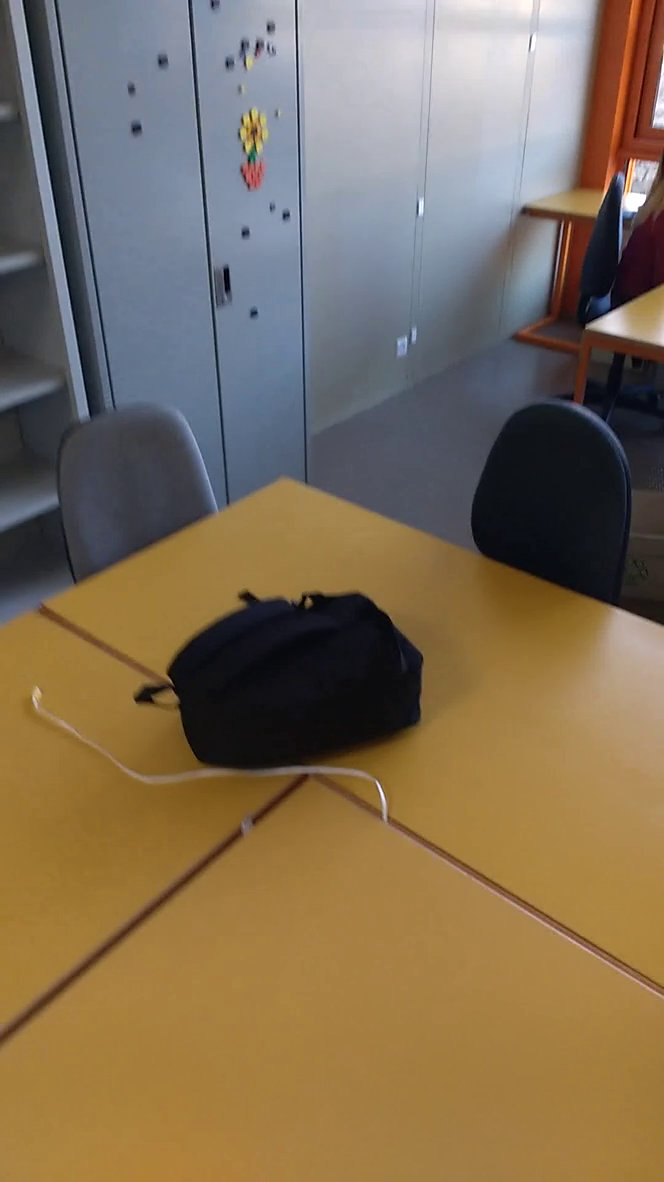bag: (125, 580, 440, 776)
chair: (466, 386, 642, 646), (43, 385, 231, 587)
